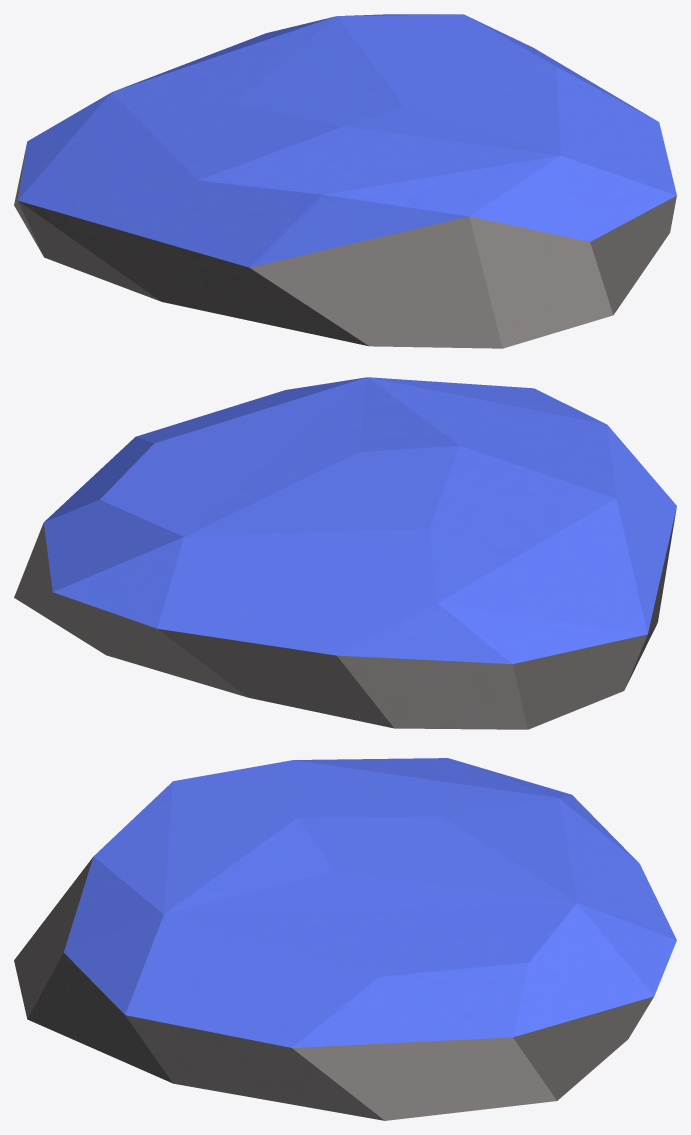
Rendered from Rock_Blue.fbx.
3 renders of one model, top to bottom at view 1: azimuth 30°, elevation 25°; view 2: azimuth 150°, elevation 25°; view 3: azimuth 270°, elevation 25°, orthographic. The views are drawn at different scales.
Parts seen in each view (by area): view 1: Rock_Yellow; view 2: Rock_Yellow; view 3: Rock_Yellow.
Part boxes in pixels (bbox=[...]): Rock_Yellow: bbox=[14, 14, 676, 348]; Rock_Yellow: bbox=[14, 377, 676, 729]; Rock_Yellow: bbox=[14, 758, 676, 1120].
Size of the model in its own units: 2.21 by 0.4533 by 2.07.
